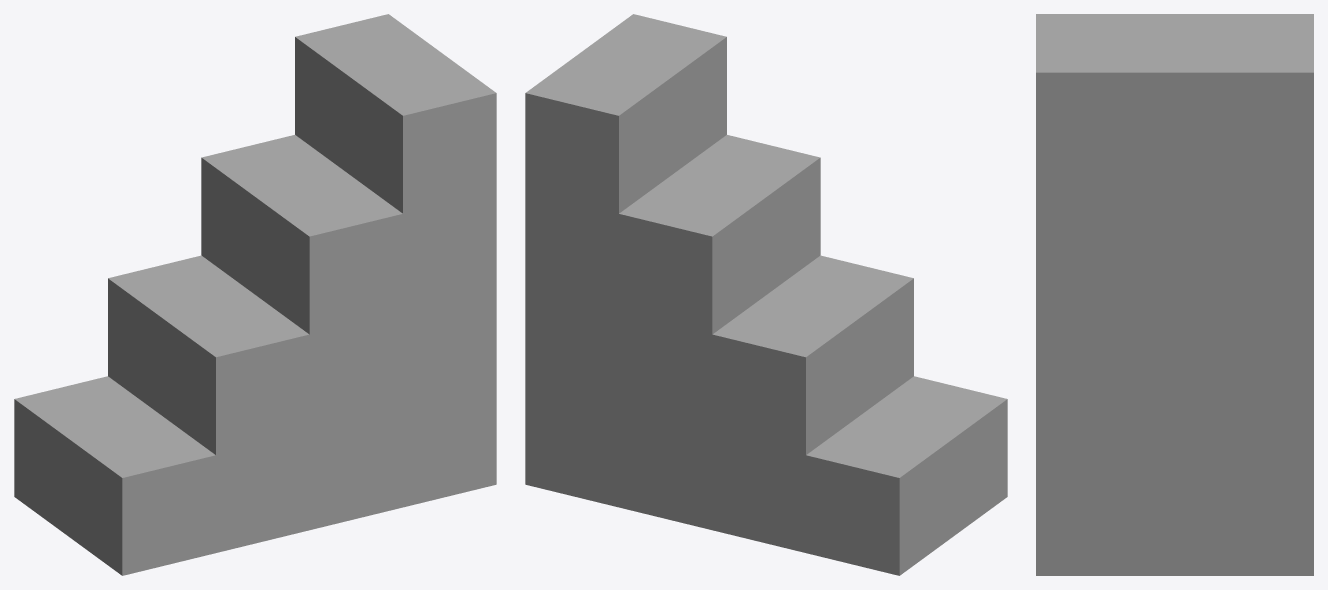
File: stair_wall.glb
3 views of the same model, side by side, from view 1: azimuth 30°, elevation 25°; view 2: azimuth 150°, elevation 25°; view 3: azimuth 270°, elevation 25° (orthographic). The views are drawn at different scales.
Parts seen in each view (by area): view 1: stair_wall; view 2: stair_wall; view 3: stair_wall.
Part boxes in pixels (x1,y1,x2,y2): stair_wall: (14, 14, 496, 575); stair_wall: (525, 14, 1007, 575); stair_wall: (1036, 14, 1313, 575).
Size of the model in its own units: 1 by 1 by 0.5.
Materials: 1 (1 with a texture image).
